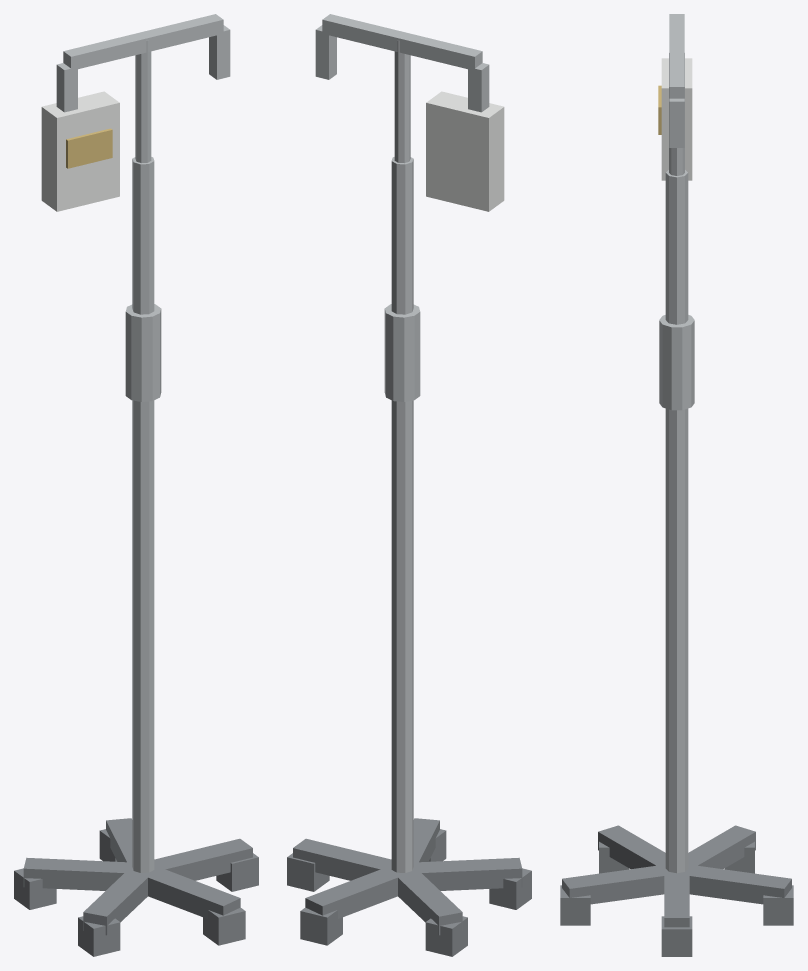
The model's file is P_iv_stand.fbx.
3 renders of one model, left to right at view 1: azimuth 30°, elevation 25°; view 2: azimuth 150°, elevation 25°; view 3: azimuth 270°, elevation 25°, orthographic.
Visible parts, largest first — view 1: P_iv_stand; view 2: P_iv_stand; view 3: P_iv_stand.
Boxes of the visible parts, bbox=[...] form: P_iv_stand: bbox=[14, 14, 258, 956]; P_iv_stand: bbox=[287, 14, 531, 956]; P_iv_stand: bbox=[560, 14, 793, 956].
Size of the model in its own units: 0.45 by 1.86 by 0.4594.
